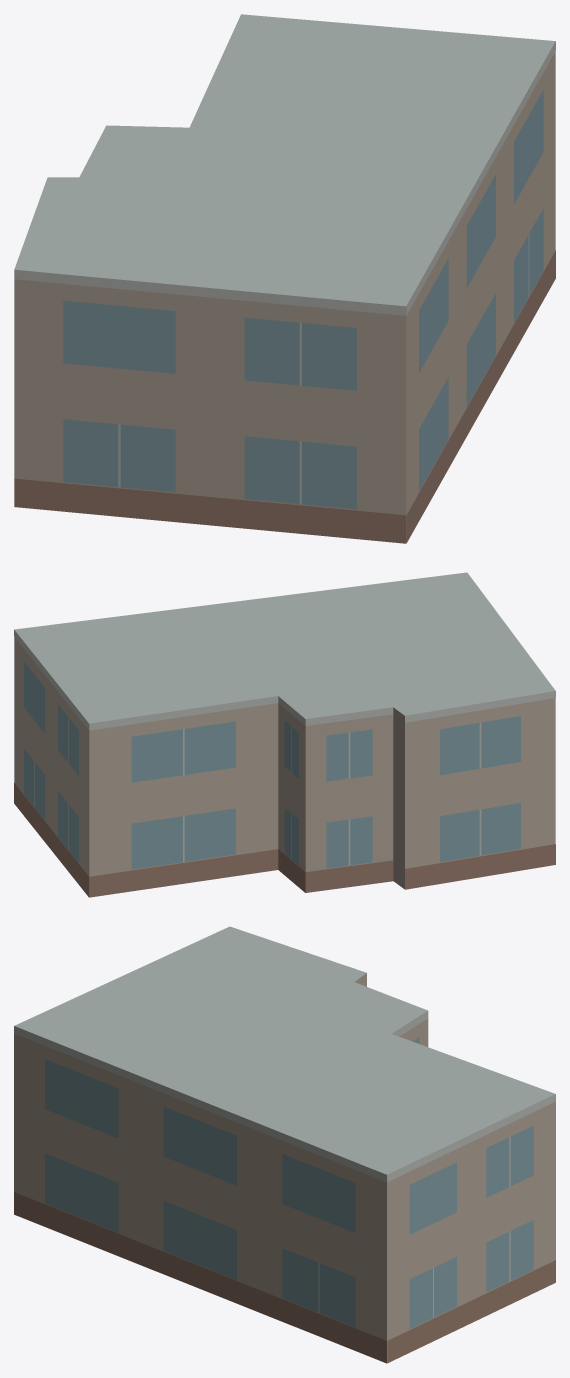
File: survey-upis-32968780.glb
3 renders of one model, top to bottom at view 1: azimuth 30°, elevation 25°; view 2: azimuth 150°, elevation 25°; view 3: azimuth 270°, elevation 25°, orthographic. The views are drawn at different scales.
Visible parts, largest first — view 1: survey-upis-32968780.tmp; view 2: survey-upis-32968780.tmp; view 3: survey-upis-32968780.tmp.
Boxes of the visible parts, left/top/right/bottom form: survey-upis-32968780.tmp: left=14, top=14, right=555, bottom=543; survey-upis-32968780.tmp: left=14, top=572, right=555, bottom=897; survey-upis-32968780.tmp: left=14, top=926, right=555, bottom=1363.
Size of the model in its own units: 17.24 by 6.1 by 15.88.
